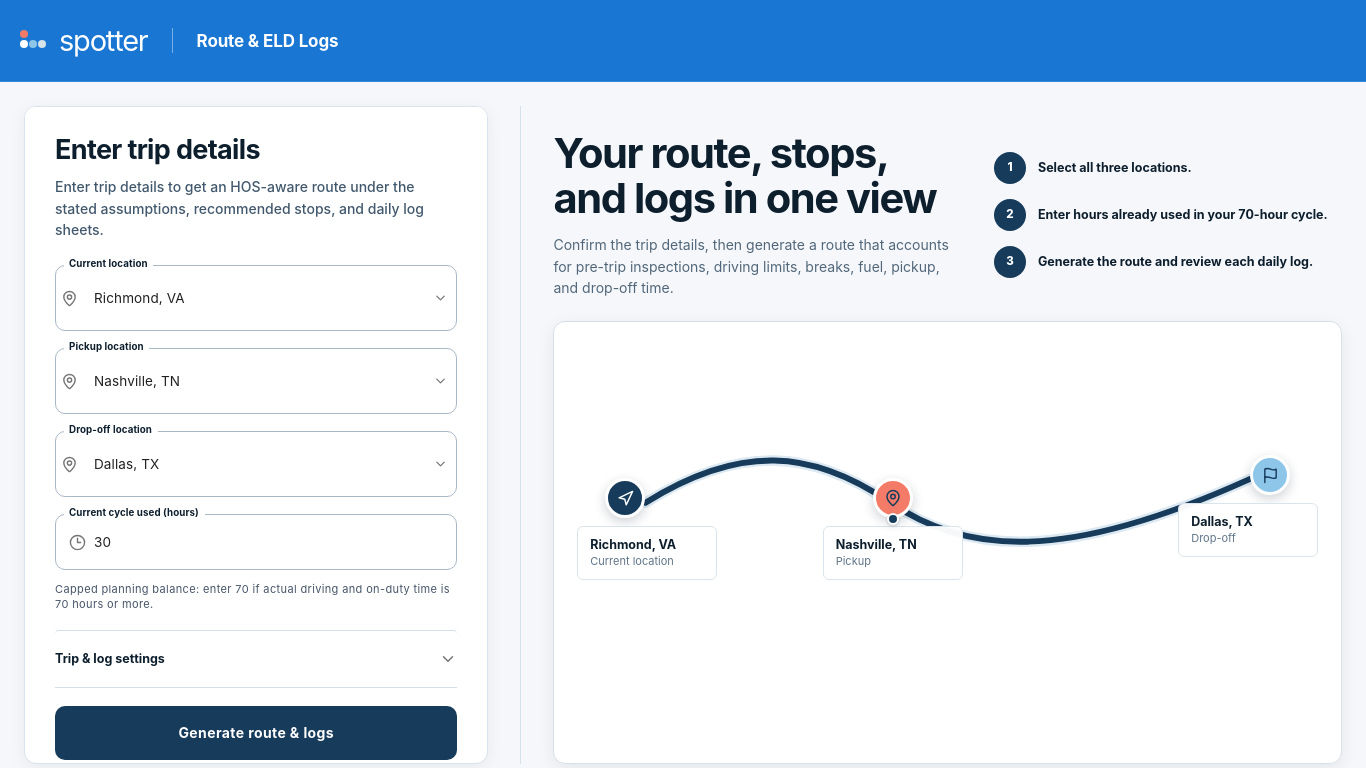
Test: Spotter application › validates the cycle range before sending a request
Replace the text in the number field labelled "Current cycle used (hours)" with "70.25" at (276, 542), box [94, 515, 457, 569]
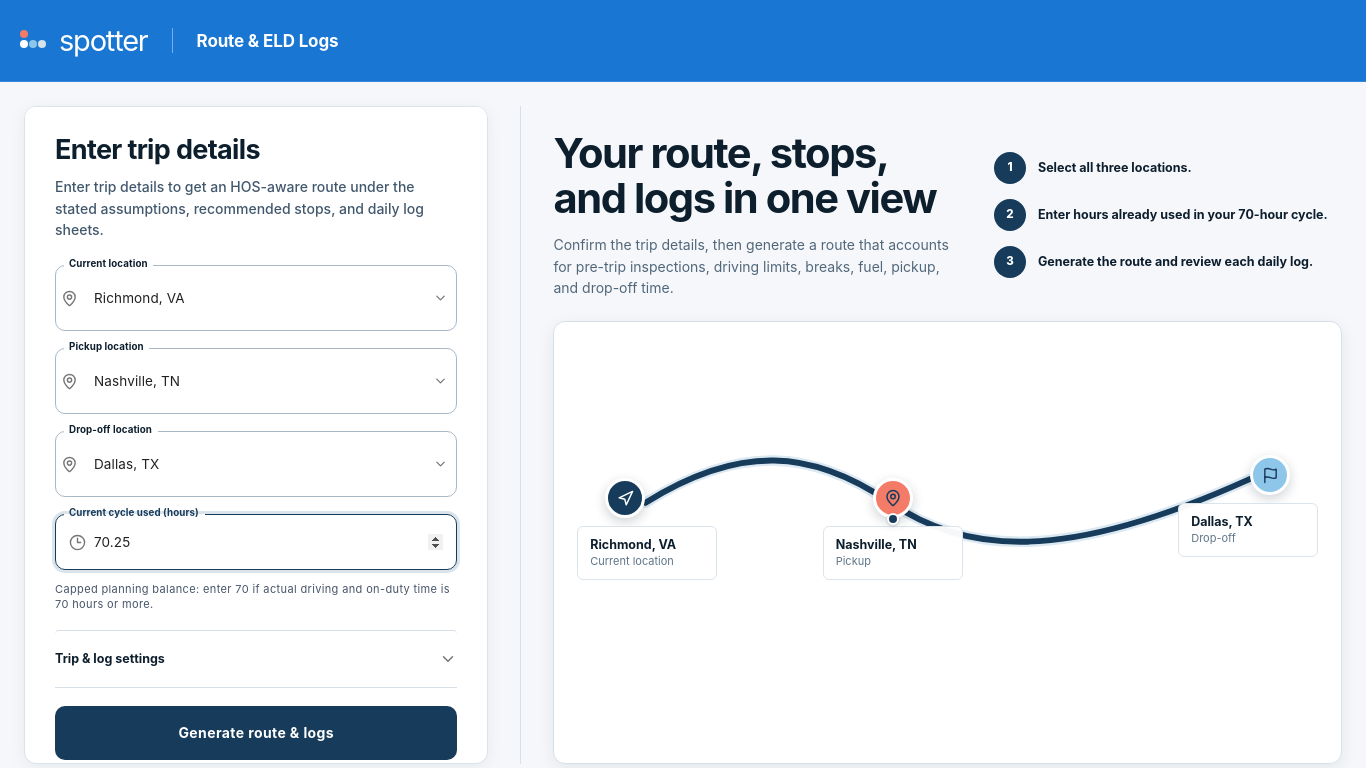
Click the button "Generate route & logs".
click(256, 733)  # box [55, 706, 457, 760]
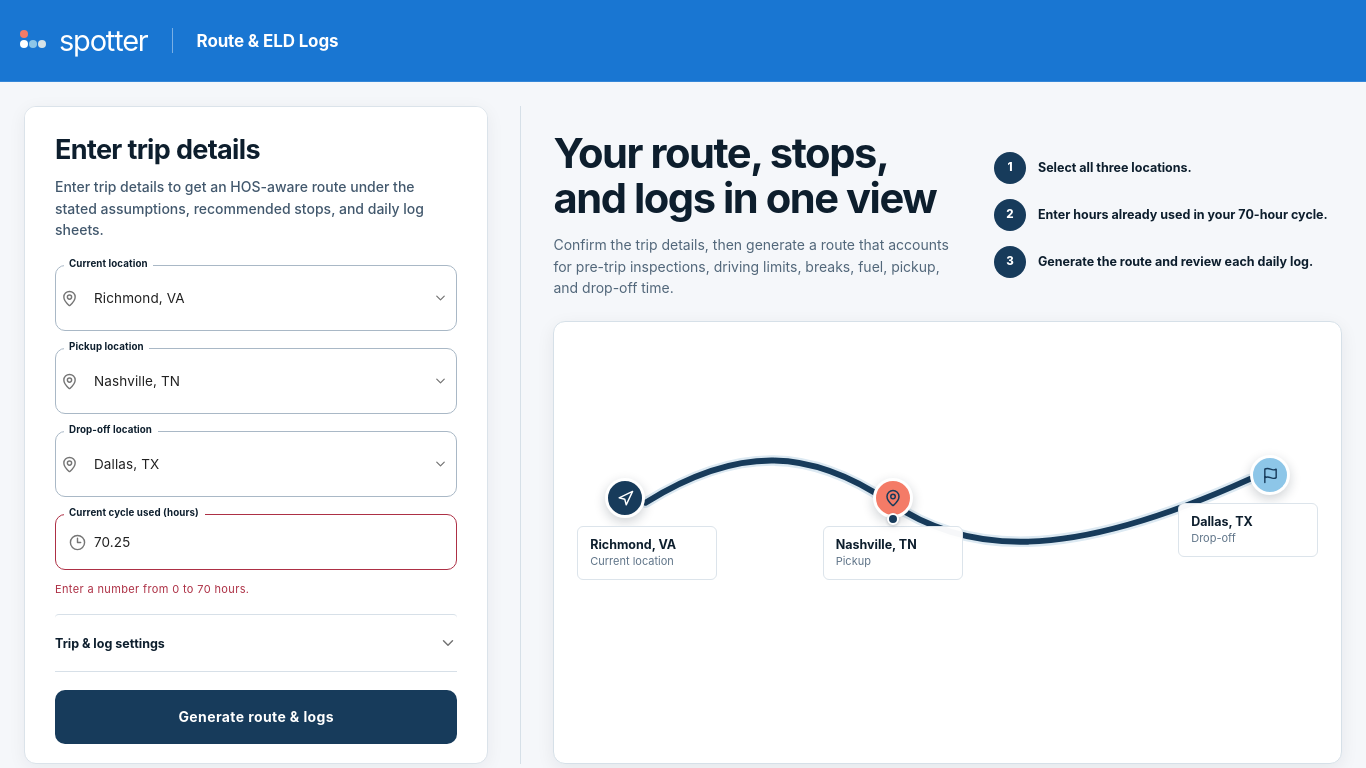
Expected: the message shows "0 to 70 hours", [55, 582, 249, 596]
